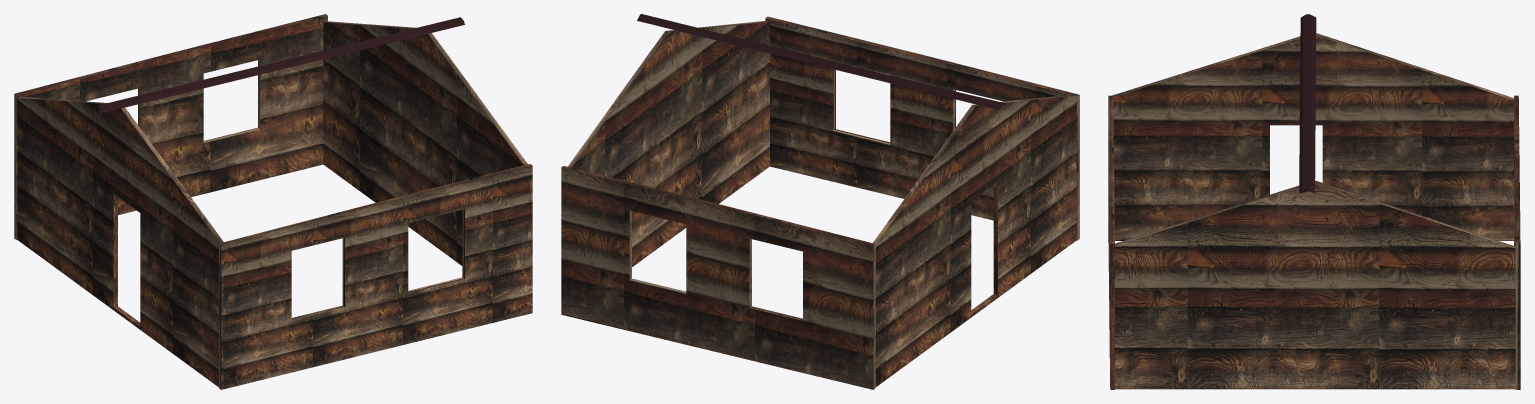
Rendered from maincottage.obj.
3 views of the same model, side by side, from view 1: azimuth 30°, elevation 25°; view 2: azimuth 150°, elevation 25°; view 3: azimuth 270°, elevation 25° (orthographic).
Visible parts, largest first — view 1: Right.002, Cube.003, Cube.001, Right.001, Cube; view 2: Right.001, Cube.003, Cube.001, Right.002, Cube; view 3: Cube.001, Cube.003, Cube, Right.002, Right.001.
Boxes of the visible parts, x1,y1,x2,y2 form: Right.002: [219, 164, 532, 389]; Cube.003: [17, 96, 224, 387]; Cube.001: [323, 21, 527, 265]; Right.001: [14, 14, 327, 239]; Cube: [93, 17, 464, 113]; Right.001: [561, 166, 875, 389]; Cube.003: [873, 94, 1077, 386]; Cube.001: [568, 20, 769, 266]; Right.002: [765, 16, 1079, 240]; Cube: [637, 14, 1006, 109]; Cube.001: [1115, 180, 1515, 389]; Cube.003: [1111, 33, 1513, 240]; Cube: [1299, 14, 1316, 193]; Right.002: [1108, 95, 1114, 389]; Right.001: [1514, 95, 1520, 389].
Bounding box in the file's own units: 16.35 × 9.26 × 16.15.
